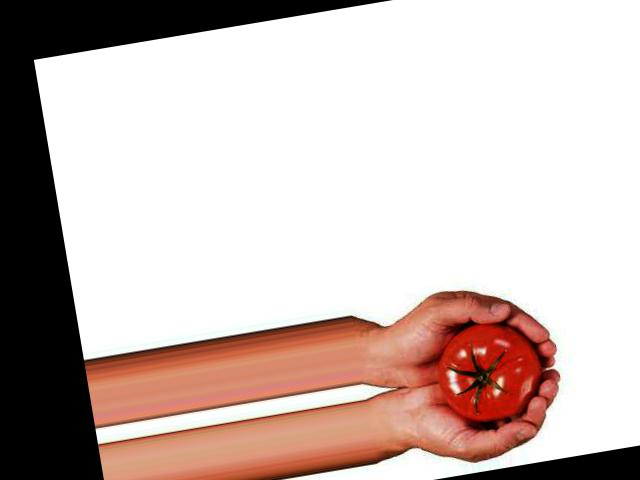tomato: (432, 315, 547, 428)
